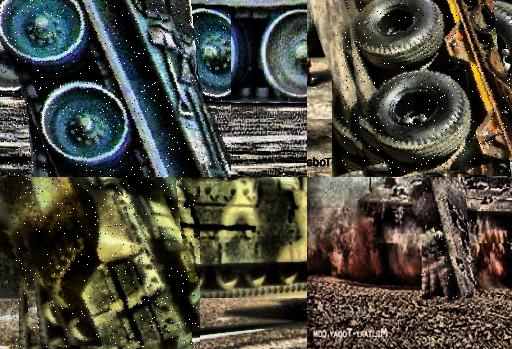tanks: (1, 1, 232, 178), (24, 178, 201, 349), (351, 1, 512, 175), (422, 178, 477, 304), (506, 260, 512, 271), (507, 246, 512, 256)
